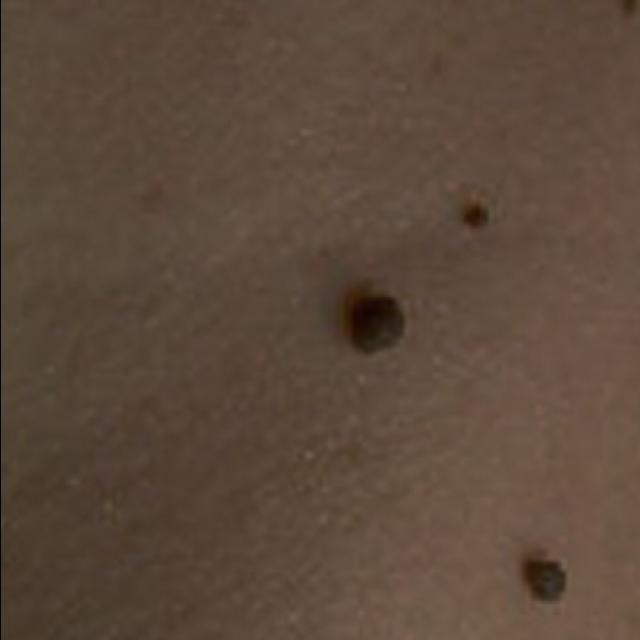wart: (336, 274, 414, 378), (500, 534, 590, 612), (445, 180, 515, 254)
